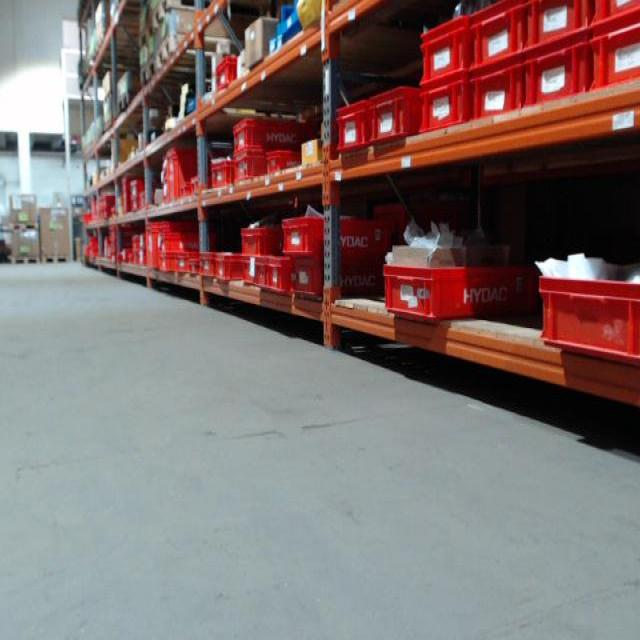pallet: (156, 32, 242, 73), (153, 0, 218, 28), (141, 54, 158, 89), (118, 92, 135, 114), (40, 254, 71, 265), (9, 221, 39, 232), (12, 256, 40, 266)
small_load_carrier: (533, 262, 639, 369), (381, 256, 526, 323), (522, 37, 593, 116), (292, 254, 386, 303), (462, 1, 523, 75), (279, 214, 386, 256), (521, 1, 587, 62), (415, 11, 472, 81), (595, 18, 640, 103), (471, 59, 524, 125), (366, 81, 417, 141), (415, 81, 472, 132), (230, 117, 309, 149), (164, 145, 207, 203), (334, 99, 369, 157), (587, 5, 640, 34), (230, 147, 270, 184), (237, 226, 278, 257), (267, 255, 295, 294), (240, 257, 269, 293), (209, 154, 235, 190), (159, 233, 212, 250), (146, 221, 162, 276), (268, 147, 300, 174), (210, 56, 237, 86), (212, 257, 242, 280), (190, 174, 209, 199), (179, 252, 200, 273), (177, 179, 196, 202), (199, 251, 214, 280), (158, 253, 178, 270), (130, 179, 144, 199), (139, 196, 154, 214), (134, 252, 147, 270), (137, 234, 148, 252), (130, 199, 143, 212), (190, 259, 200, 275)
